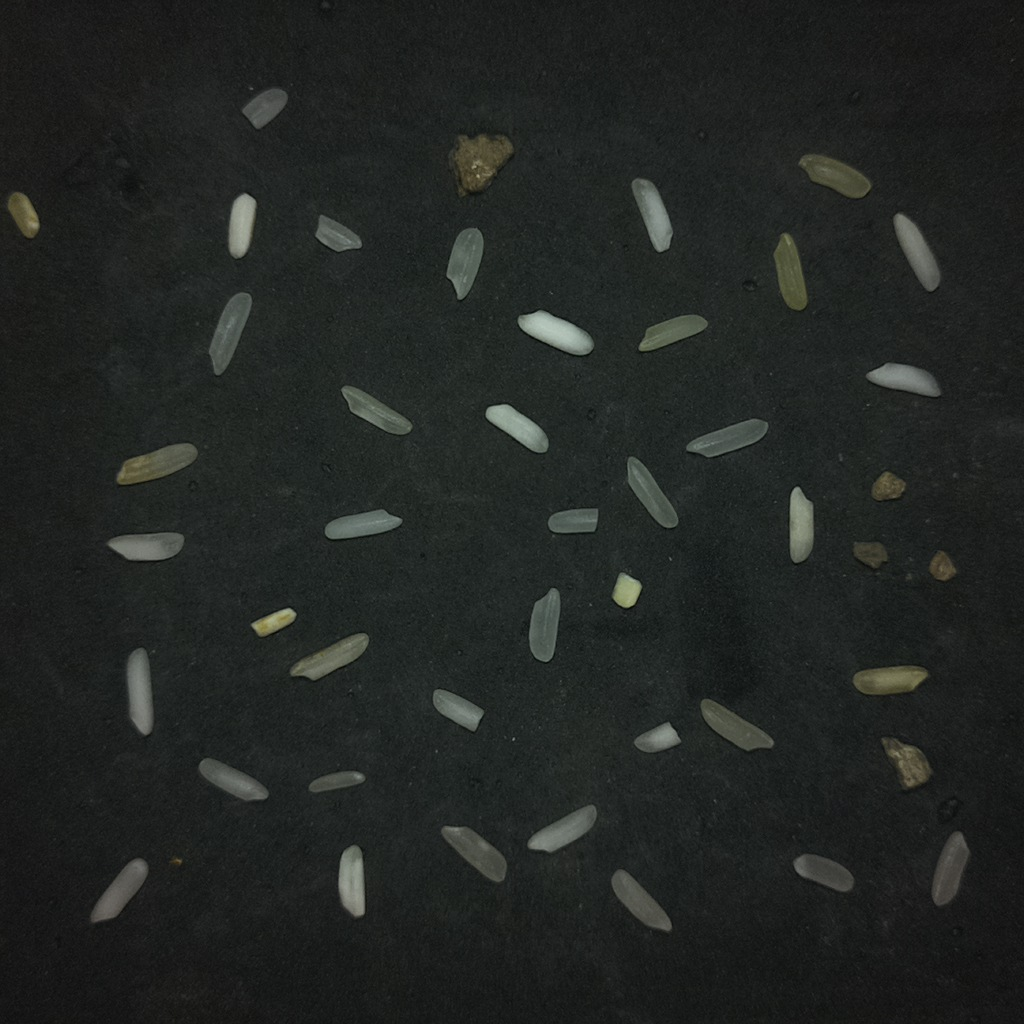broken: (793, 854, 853, 892), (108, 532, 184, 561), (432, 688, 483, 731), (242, 87, 286, 129), (315, 215, 362, 251), (634, 723, 680, 752), (308, 770, 365, 793), (548, 508, 598, 533)
chalky: (90, 858, 148, 923), (893, 212, 940, 291), (517, 310, 593, 355), (527, 805, 596, 852), (485, 404, 548, 452), (632, 178, 672, 252), (866, 362, 940, 397), (126, 647, 153, 735), (325, 509, 402, 539), (338, 845, 364, 918), (790, 486, 813, 563), (229, 193, 256, 258)
damaged: (290, 632, 368, 679), (7, 192, 39, 238), (250, 607, 296, 636), (612, 572, 641, 608)
discolored: (700, 699, 773, 750), (116, 444, 197, 485), (799, 154, 870, 198), (774, 233, 808, 311), (638, 314, 707, 351), (853, 666, 928, 694)
foreign: (448, 134, 513, 195), (881, 737, 931, 789), (871, 471, 905, 501), (853, 542, 887, 569), (929, 550, 956, 581)
whole: (611, 869, 671, 931), (441, 826, 506, 882), (627, 456, 678, 527), (342, 385, 412, 435), (209, 292, 251, 375), (686, 418, 768, 457), (198, 758, 268, 800), (931, 832, 969, 905), (446, 227, 483, 299), (529, 588, 559, 662)
